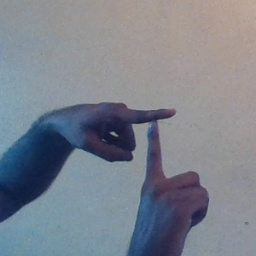T: (93, 89, 199, 202)
